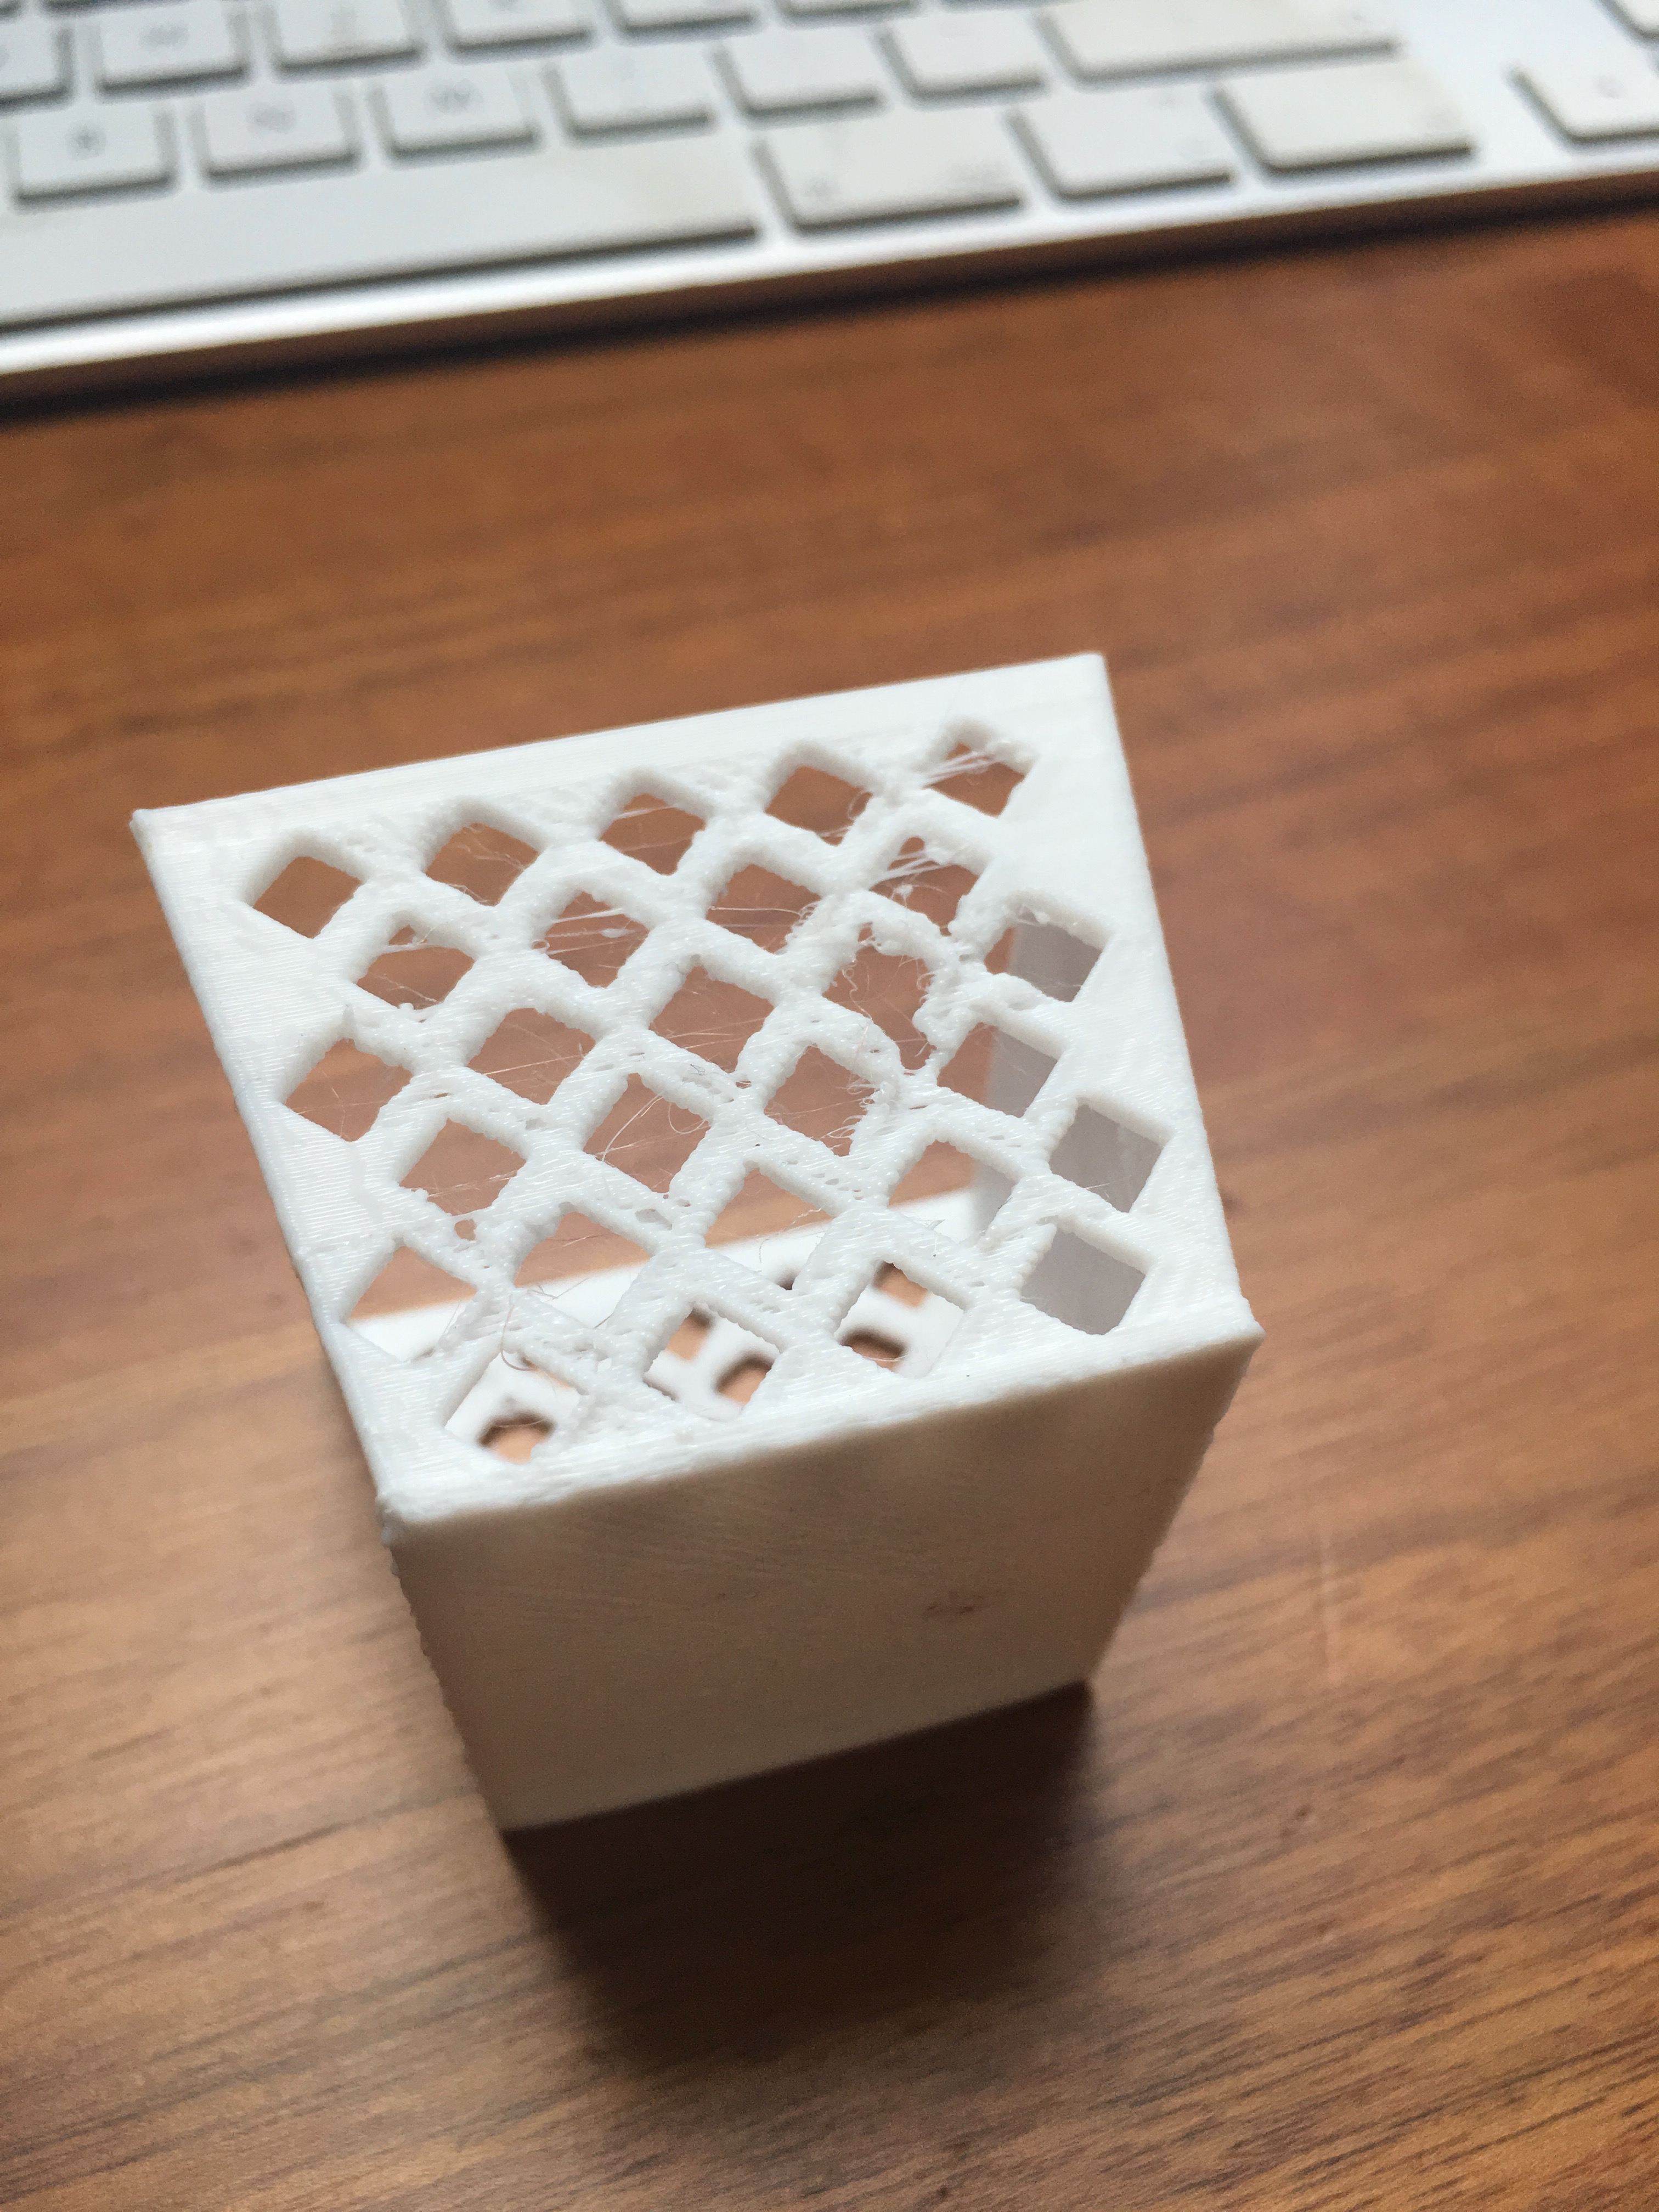3dpstringing: (519, 895, 660, 979), (896, 732, 1042, 806), (580, 1101, 723, 1174), (861, 841, 986, 911), (821, 1059, 903, 1162), (650, 1007, 772, 1071), (594, 794, 723, 850), (342, 928, 465, 968), (457, 1047, 586, 1085), (850, 1343, 927, 1381)
3dpunderextrusion: (870, 930, 1068, 1047), (518, 1285, 648, 1388), (793, 1153, 913, 1237), (983, 1197, 1133, 1258), (413, 1198, 521, 1270), (721, 1266, 800, 1339), (606, 1197, 725, 1238)
